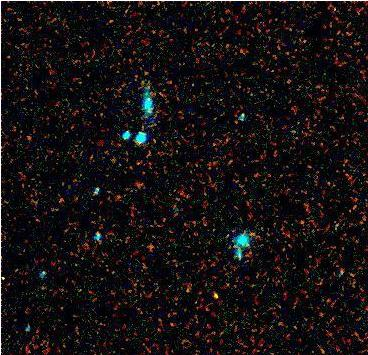star: (198, 275, 228, 305)
